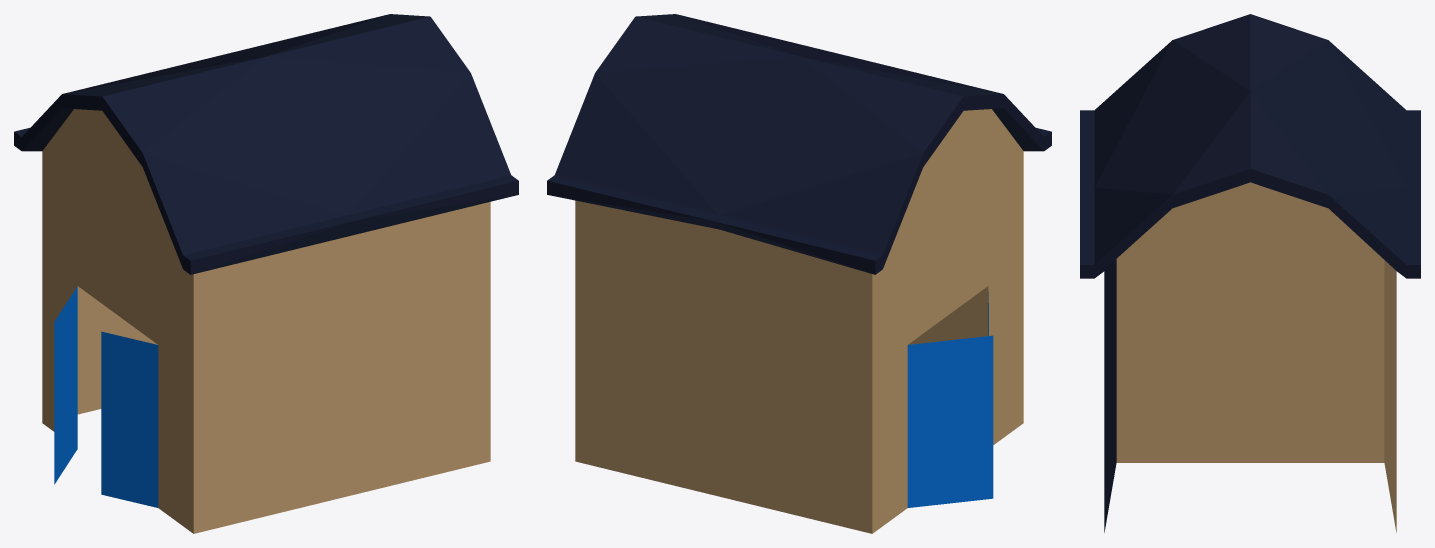
Rendered from house.fbx.
3 renders of one model, left to right at view 1: azimuth 30°, elevation 25°; view 2: azimuth 150°, elevation 25°; view 3: azimuth 270°, elevation 25°, orthographic. The views are drawn at different scales.
Parts seen in each view (by area): view 1: Cube; view 2: Cube; view 3: Cube.
Part boxes in pixels (x1,y1,x2,y2): Cube: (14,14,518,533); Cube: (547,14,1051,533); Cube: (1080,14,1420,532).
Bounding box in the file's own units: 1681 × 1688 × 1400.
